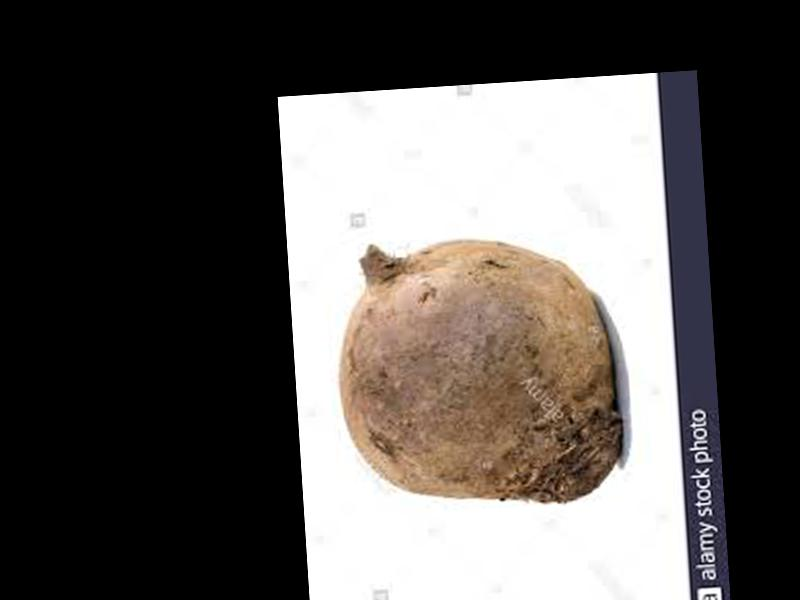Beet: (331, 229, 625, 514)
